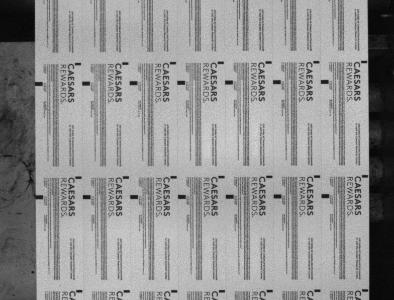backgroundclutter: (31, 271, 35, 274)
qblock: (82, 81, 90, 86), (225, 80, 233, 85), (178, 194, 186, 199), (130, 194, 138, 199), (226, 194, 234, 199), (273, 80, 282, 84), (35, 82, 43, 86), (321, 80, 329, 84), (35, 195, 43, 199), (178, 81, 186, 85), (130, 81, 138, 85), (322, 194, 330, 198), (83, 195, 91, 199), (274, 194, 282, 198)
smallqblock: (170, 61, 176, 65), (171, 175, 177, 179), (75, 62, 81, 66), (363, 174, 369, 178), (267, 289, 274, 292), (171, 290, 178, 293), (219, 289, 226, 292), (362, 289, 369, 292), (218, 175, 225, 178), (76, 289, 83, 292), (122, 62, 129, 65), (123, 176, 129, 179), (76, 176, 82, 179), (267, 175, 273, 178), (124, 289, 130, 292), (218, 61, 224, 64), (315, 289, 321, 292), (266, 61, 272, 64), (314, 175, 320, 178), (314, 61, 320, 63), (362, 61, 368, 63)
